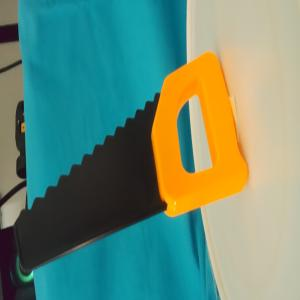serrote: (16, 48, 250, 276)
